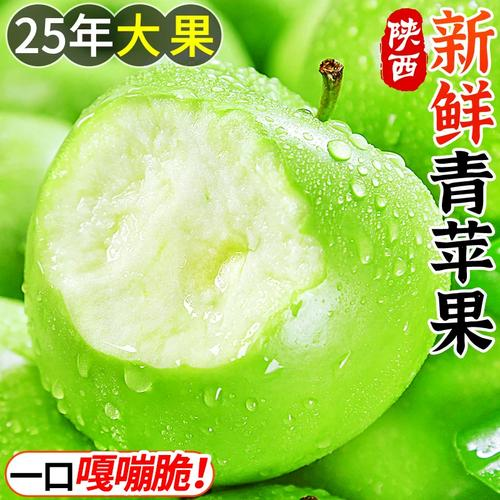unripe: (9, 59, 464, 499)
